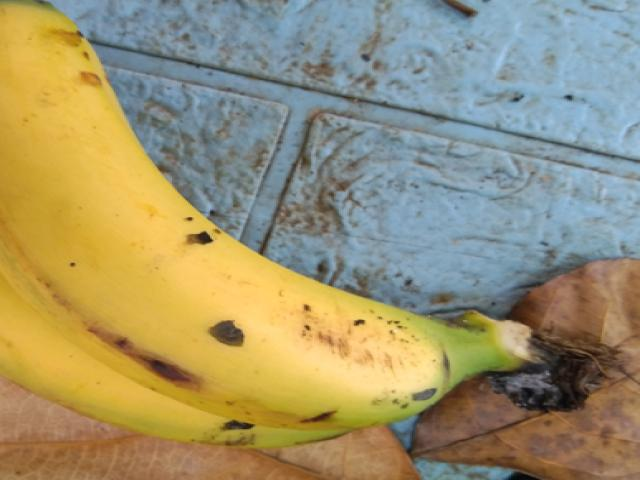ripe: (0, 0, 432, 415)
